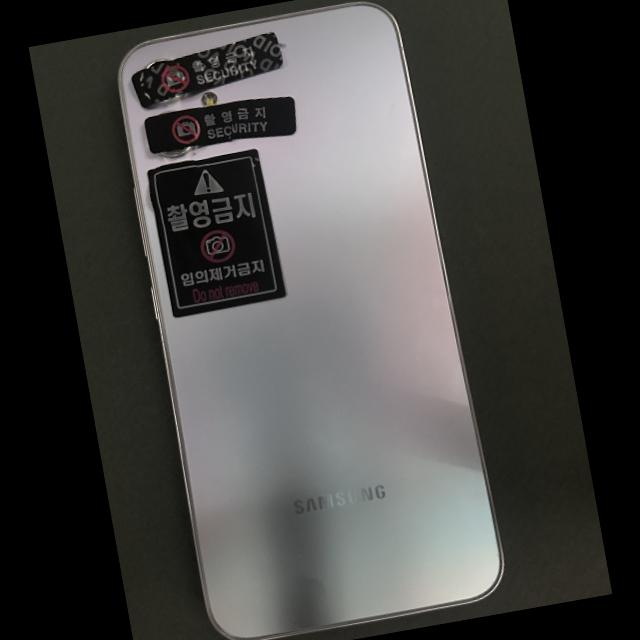lens: (160, 148, 189, 157), (146, 59, 170, 67)
phone: (115, 1, 504, 640)
sticker: (147, 148, 286, 317), (131, 32, 283, 108), (144, 96, 295, 153)
